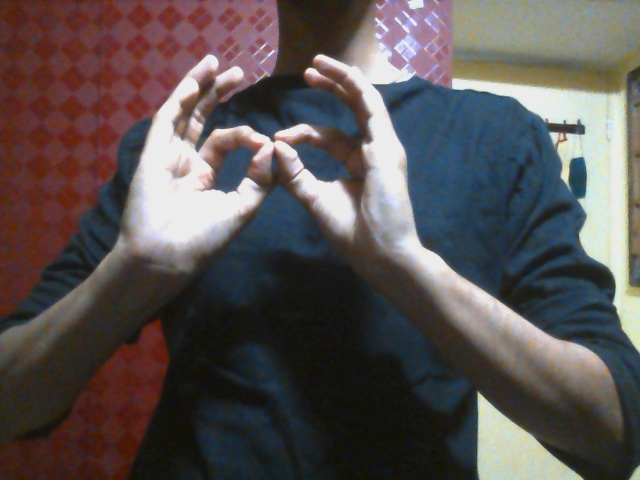B: (118, 51, 430, 299)
